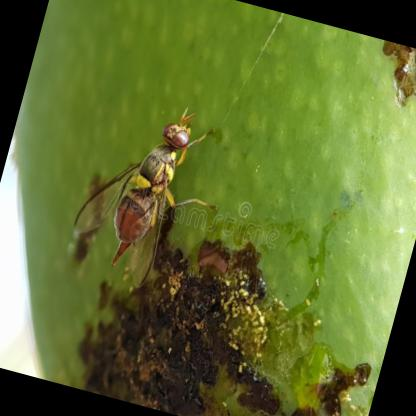fruit fly: (72, 110, 217, 288)
